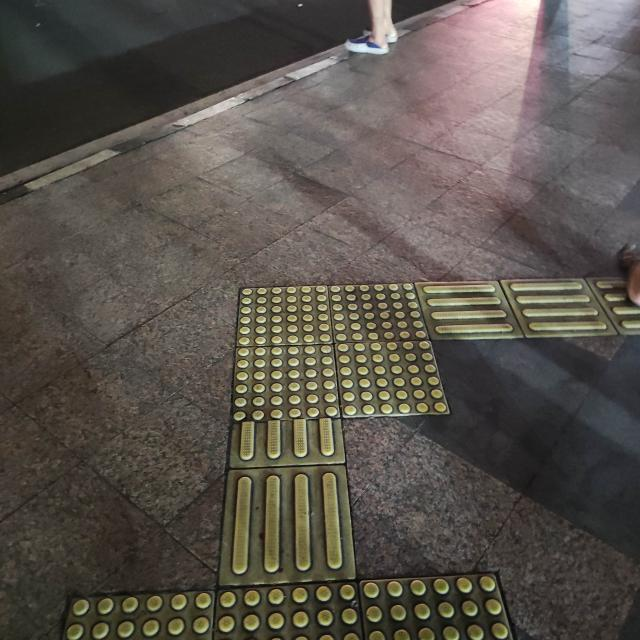kanan: (194, 244, 596, 470)
